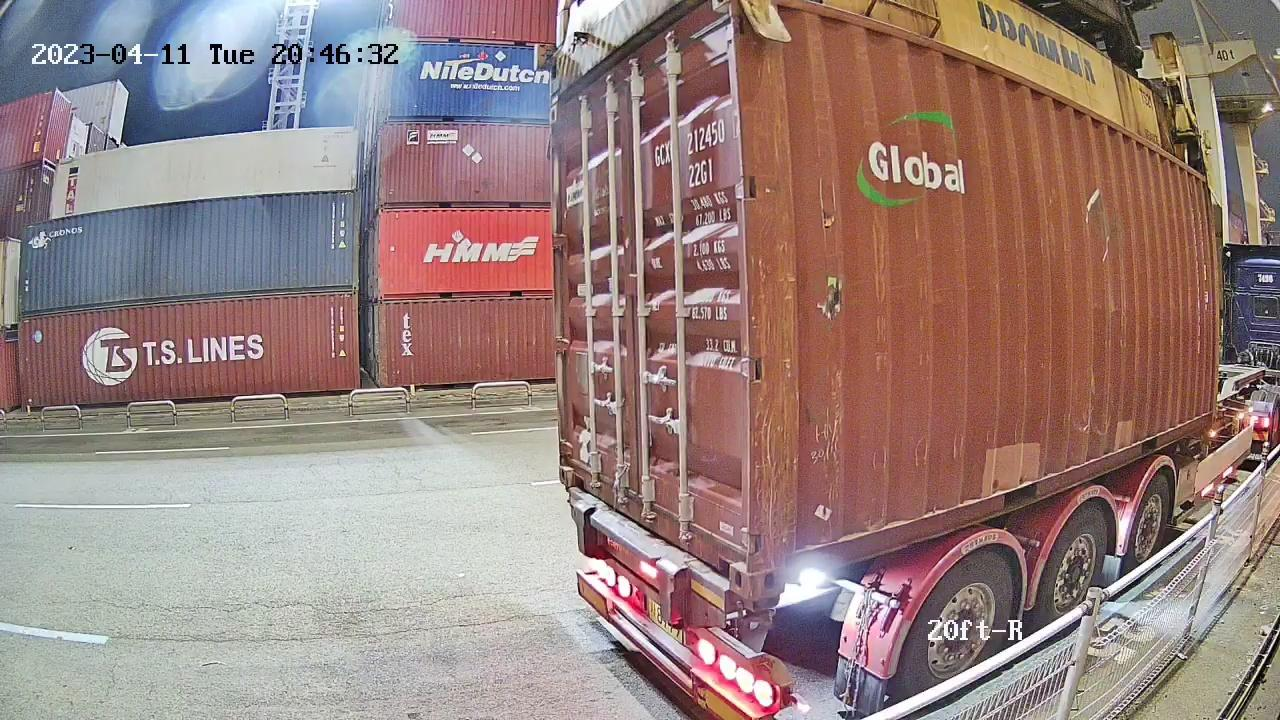Chassis: (568, 494, 740, 642)
Cone: (744, 593, 782, 632)
Container: (557, 443, 754, 598)
Hole_L: (752, 528, 798, 599), (560, 442, 589, 492)
Hole_R: (714, 524, 753, 596)
Tire: (906, 553, 1015, 696), (1033, 507, 1109, 630), (1124, 475, 1171, 571)
